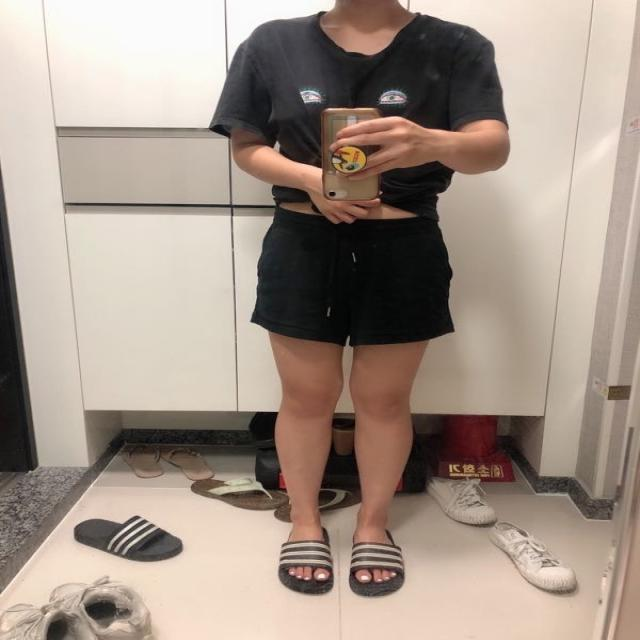shortpants: (247, 208, 457, 347)
shortsleeve: (211, 8, 508, 220)
